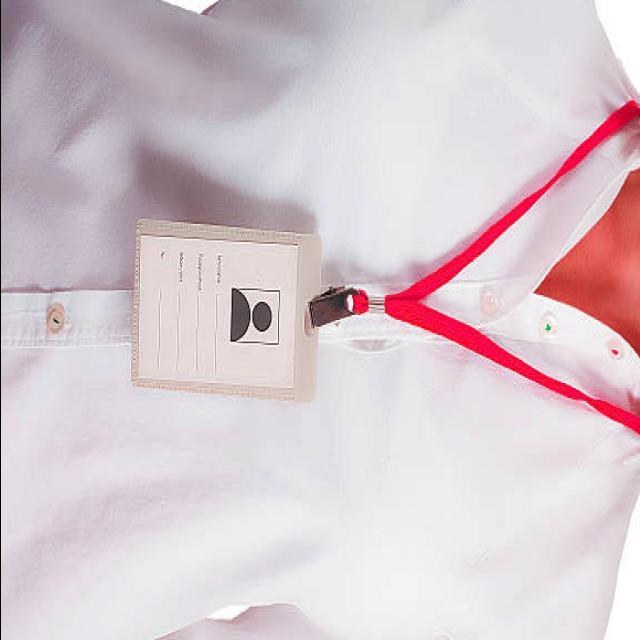ID_card: (130, 215, 322, 403)
